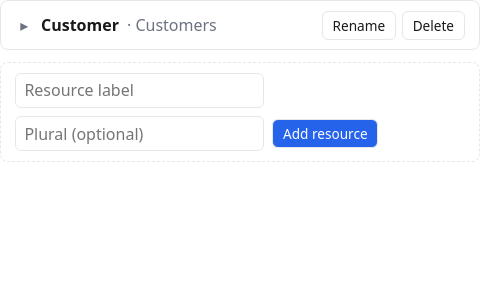
Scenario: ResourceTree › surfaces dependency blockers when a delete is blocked
This screenshot has width=497, height=306.
Click the button "Delete" at (433, 25), box [402,11,465,40]
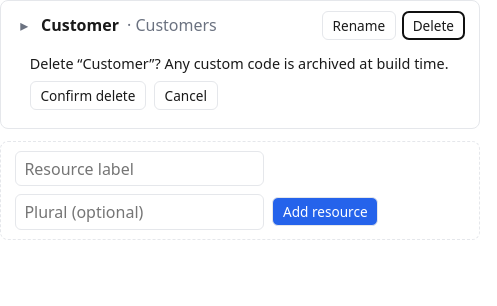
Click the button "Confirm delete" at (88, 96), box [30,81,146,110]
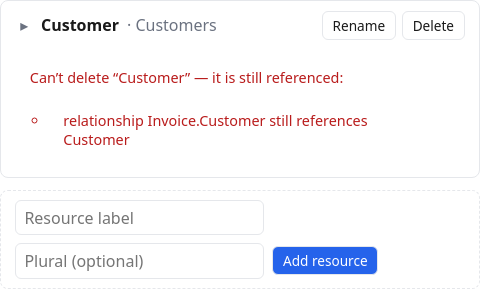
Now the list item "relationship Invoice.Customer still references Customer" is shown, box [63,111,368,149]
